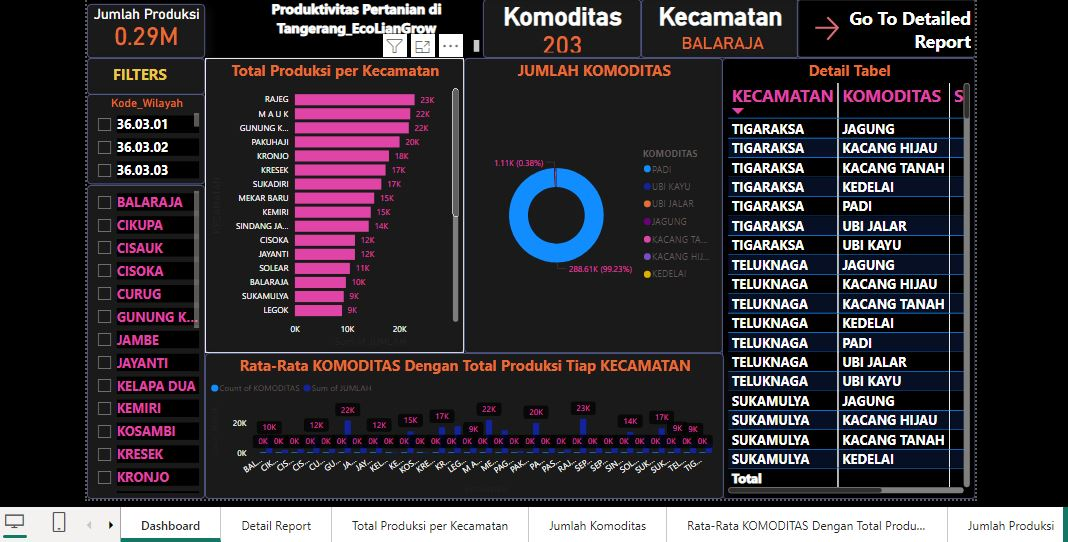

This screenshot's page, from the dashboard's own definition file:
{"tool":"powerbi","page":{"name":"Dashboard","canvas":[1280,720],"ordinal":0},"visuals":[{"type":"card","title":"Jumlah Produksi","fields":{"Values":["Sum(Produksi Sektor Pertanian Tahun 2023_0 (2).JUMLAH)"]},"box":[0,7.5,170,77.5],"z":0},{"type":"textbox","title":"Produktivitas Pertanian di Tangerang_EcoLianGrow","box":[205.7,0,364.3,84.3],"z":1000},{"type":"card","title":"Komoditas","fields":{"Values":["CountNonNull(Produksi Sektor Pertanian Tahun 2023_0 (2).KOMODITAS)"]},"box":[570,0,227.5,85],"z":2000},{"type":"card","title":"Kecamatan","fields":{"Values":["Min(Produksi Sektor Pertanian Tahun 2023_0 (2).KECAMATAN)"]},"box":[797.5,0,227.5,85],"z":3000},{"type":"textbox","box":[0,85,170,52.5],"z":4000},{"type":"actionButton","box":[1022.5,0,257.5,85],"z":5000},{"type":"slicer","title":"Kode_Wilayah","fields":{"Values":["Produksi Sektor Pertanian Tahun 2023_0 (2).KODE_WILAYAH"]},"box":[0,137.5,170,130],"z":6000},{"type":"slicer","title":"State_name","fields":{"Values":["Produksi Sektor Pertanian Tahun 2023_0 (2).KECAMATAN"]},"box":[0,268.3,170,451.7],"z":7000},{"type":"clusteredBarChart","title":"Total Produksi per Kecamatan","fields":{"Y":["Sum(Produksi Sektor Pertanian Tahun 2023_0 (2).JUMLAH)"],"Category":["Produksi Sektor Pertanian Tahun 2023_0 (2).KECAMATAN"]},"box":[170,85,372.5,425],"z":8000},{"type":"donutChart","title":" JUMLAH KOMODITAS","fields":{"Category":["Produksi Sektor Pertanian Tahun 2023_0 (2).KOMODITAS"],"Y":["Sum(Produksi Sektor Pertanian Tahun 2023_0 (2).JUMLAH)"]},"box":[542.5,85,372.5,425],"z":9000},{"type":"tableEx","title":"Detail Tabel","fields":{"Values":["Produksi Sektor Pertanian Tahun 2023_0 (2).KECAMATAN","Produksi Sektor Pertanian Tahun 2023_0 (2).KOMODITAS","Sum(Produksi Sektor Pertanian Tahun 2023_0 (2).JUMLAH)"]},"box":[915,85,365,635],"z":10000},{"type":"lineClusteredColumnComboChart","title":"Rata-Rata KOMODITAS Dengan Total Produksi Tiap KECAMATAN","fields":{"Category":["Produksi Sektor Pertanian Tahun 2023_0 (2).KECAMATAN Hierarchy.KECAMATAN"],"Y":["CountNonNull(Produksi Sektor Pertanian Tahun 2023_0 (2).KOMODITAS)","Sum(Produksi Sektor Pertanian Tahun 2023_0 (2).JUMLAH)"]},"box":[170,510,746.7,210],"z":11000}]}

Visuals, with their boxes on the page's 1280x720 design canvas (x1, y1, x2, y2). These are canvas units, not pixel positions in the 1068x542 screenshot, which may show the page scaled, cropped or inside an application window:
"Jumlah Produksi" card: select_region(0, 8, 170, 85)
"Produktivitas Pertanian di Tangerang_EcoLianGrow" textbox: select_region(206, 0, 570, 84)
"Komoditas" card: select_region(570, 0, 798, 85)
"Kecamatan" card: select_region(798, 0, 1025, 85)
textbox: select_region(0, 85, 170, 138)
actionButton: select_region(1022, 0, 1280, 85)
"Kode_Wilayah" slicer: select_region(0, 138, 170, 268)
"State_name" slicer: select_region(0, 268, 170, 720)
"Total Produksi per Kecamatan" clusteredBarChart: select_region(170, 85, 542, 510)
" JUMLAH KOMODITAS" donutChart: select_region(542, 85, 915, 510)
"Detail Tabel" tableEx: select_region(915, 85, 1280, 720)
"Rata-Rata KOMODITAS Dengan Total Produksi Tiap KECAMATAN" lineClusteredColumnComboChart: select_region(170, 510, 917, 720)
